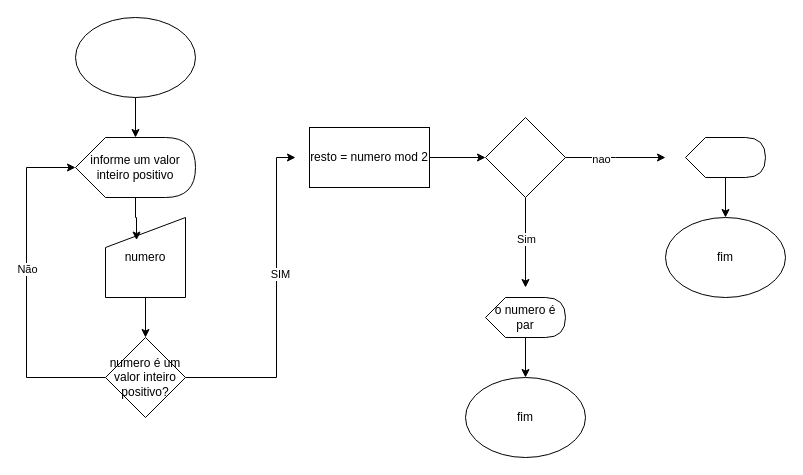
The diagram is 803 pixels wide and 475 high, and some of its shapes have lost their labels. The box of each missing label's shape, as (x1, y1, x2, y2) in pixels:
inicio: (74, 16, 196, 98)
o numero é impar: (684, 136, 766, 178)
resto = 0?: (484, 116, 566, 198)
